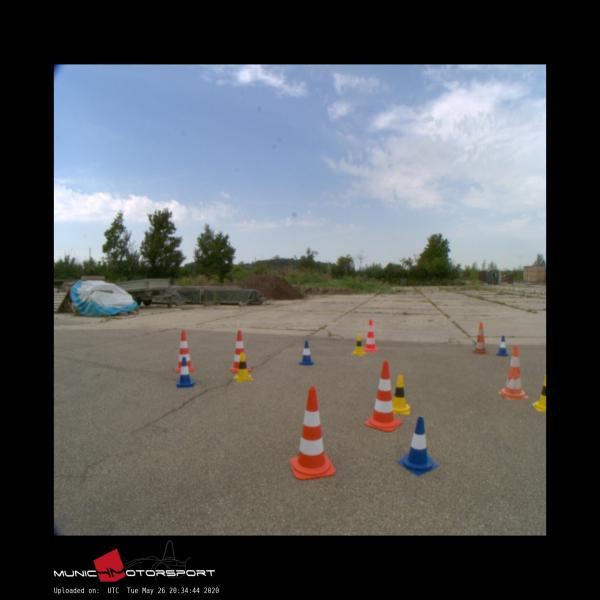blue_cone: (397, 416, 438, 475), (175, 357, 194, 387), (299, 340, 313, 364), (495, 335, 508, 356)
large_orange_cone: (290, 388, 335, 478), (364, 360, 400, 430), (497, 345, 528, 399), (230, 330, 252, 371), (174, 330, 194, 371), (472, 322, 488, 354), (363, 319, 378, 351)
yellow_cone: (390, 376, 410, 414), (233, 352, 252, 381), (532, 374, 546, 412), (351, 334, 366, 355)
